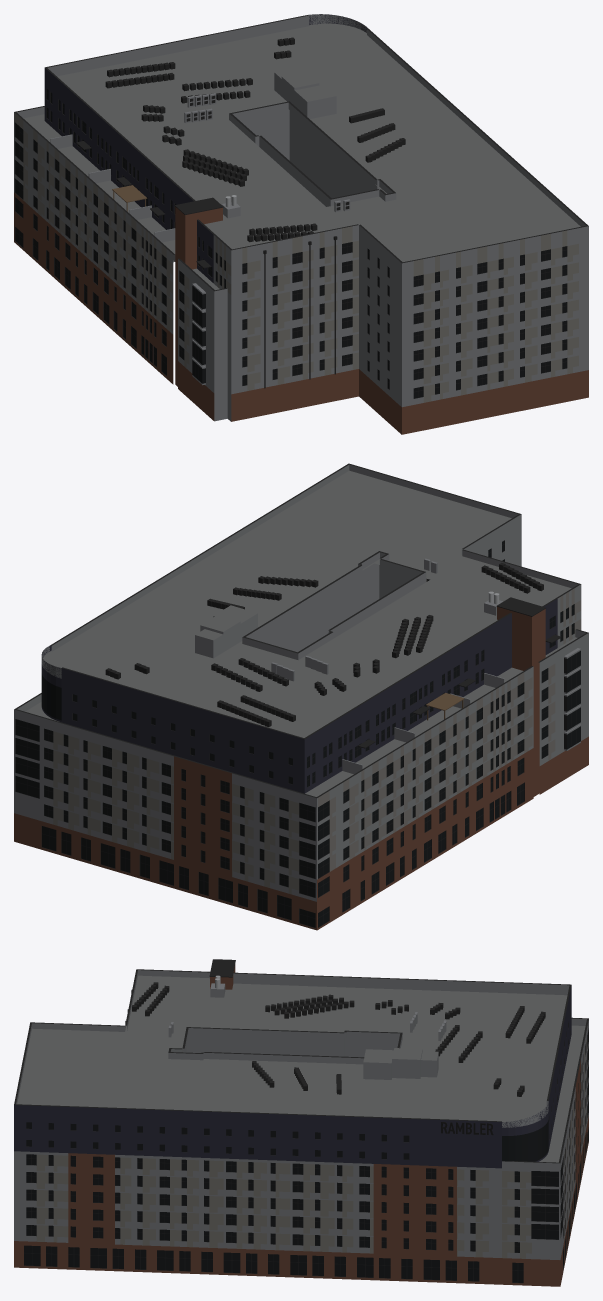
File: rambler-look.glb
3 views of the same model, one above another, from view 1: azimuth 30°, elevation 25°; view 2: azimuth 150°, elevation 25°; view 3: azimuth 270°, elevation 25° (orthographic). The views are drawn at different scales.
Visible parts, largest first — view 1: n_wall_white_panel, n_roof, n_wall_beige_panel, n_wall_brick, n_glass_window, n_metal_dark_bronze, n_wall_dark_metal, n_mech_dark; view 2: n_roof, n_wall_white_panel, n_glass_window, n_wall_brick, n_wall_dark_metal, n_wall_beige_panel, n_metal_dark_bronze, n_mech_dark; view 3: n_roof, n_wall_white_panel, n_wall_dark_metal, n_wall_brick, n_glass_window, n_wall_beige_panel, n_metal_dark_bronze, n_mech_dark.
Part boxes in pixels (<box>): n_wall_white_panel: <box>14,14,588,421</box>; n_roof: <box>23,23,580,290</box>; n_wall_beige_panel: <box>14,113,578,402</box>; n_wall_brick: <box>14,192,588,434</box>; n_glass_window: <box>15,89,566,398</box>; n_metal_dark_bronze: <box>14,15,588,398</box>; n_wall_dark_metal: <box>44,14,366,282</box>; n_mech_dark: <box>105,37,405,242</box>; n_roof: <box>25,470,577,796</box>; n_wall_white_panel: <box>14,464,588,901</box>; n_glass_window: <box>15,540,580,927</box>; n_wall_brick: <box>14,606,588,930</box>; n_wall_dark_metal: <box>41,599,557,793</box>; n_wall_beige_panel: <box>53,578,581,894</box>; n_metal_dark_bronze: <box>14,463,588,928</box>; n_mech_dark: <box>105,562,543,726</box>; n_roof: <box>17,975,585,1162</box>; n_wall_white_panel: <box>14,970,588,1259</box>; n_wall_dark_metal: <box>14,985,571,1168</box>; n_wall_brick: <box>14,964,588,1286</box>; n_glass_window: <box>24,1032,588,1282</box>; n_wall_beige_panel: <box>36,1026,587,1258</box>; n_metal_dark_bronze: <box>14,959,588,1283</box>; n_mech_dark: <box>132,982,545,1096</box>.
Bounding box in the file's own units: 61.77 × 31.4 × 92.91.
